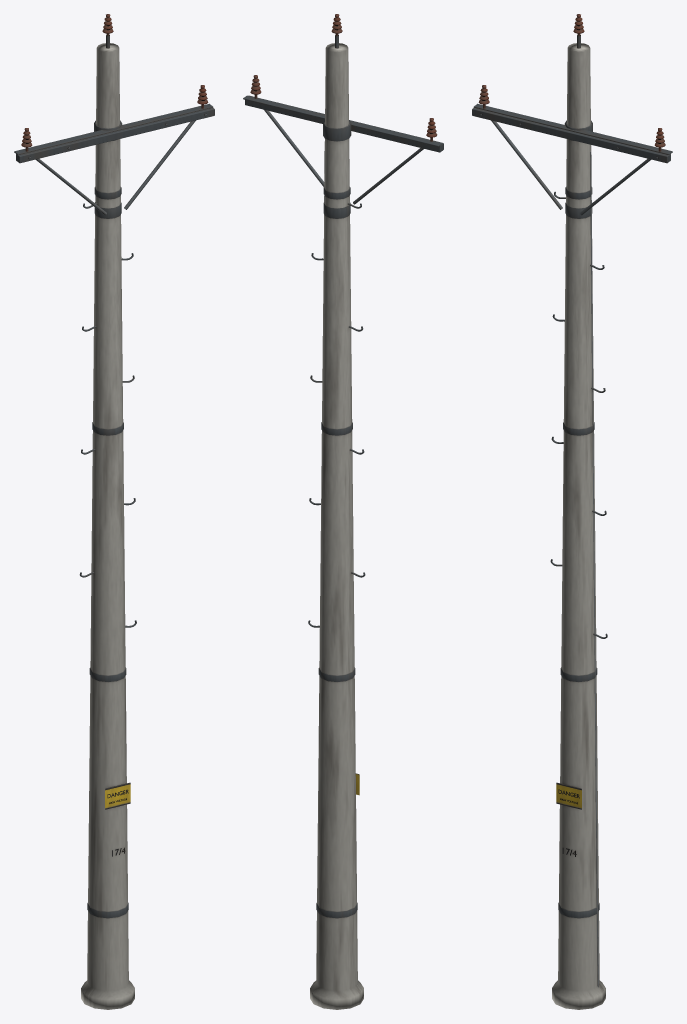
The model's file is ul_slup_en.glb.
The picture shows the model from 3 angles, left to right: view 1: azimuth 30°, elevation 25°; view 2: azimuth 150°, elevation 25°; view 3: azimuth 330°, elevation 25°; orthographic projection.
Parts seen in each view (by area): view 1: Slup; view 2: Slup; view 3: Slup.
Boxes of the visible parts, bbox=[...] form: Slup: bbox=[14, 14, 214, 1009]; Slup: bbox=[243, 14, 443, 1009]; Slup: bbox=[472, 14, 672, 1009].
Size of the model in its own units: 2 by 9.63 by 0.48.
Materials: 1 (1 with a texture image).
